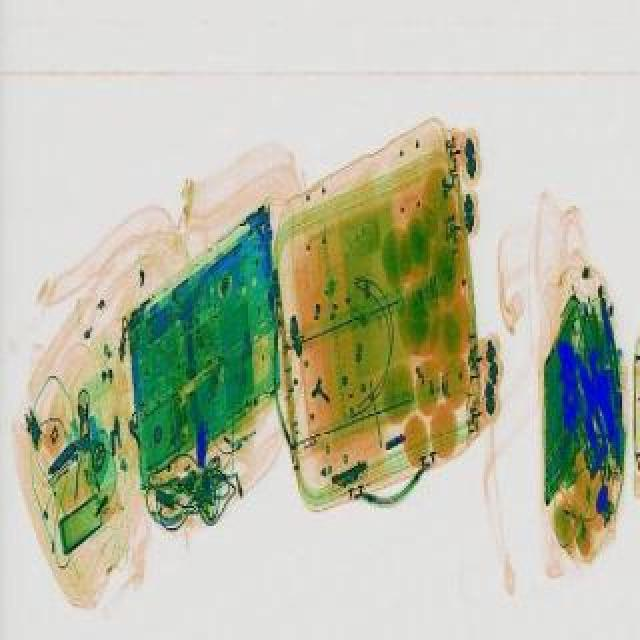wrench: (594, 290, 622, 388)
